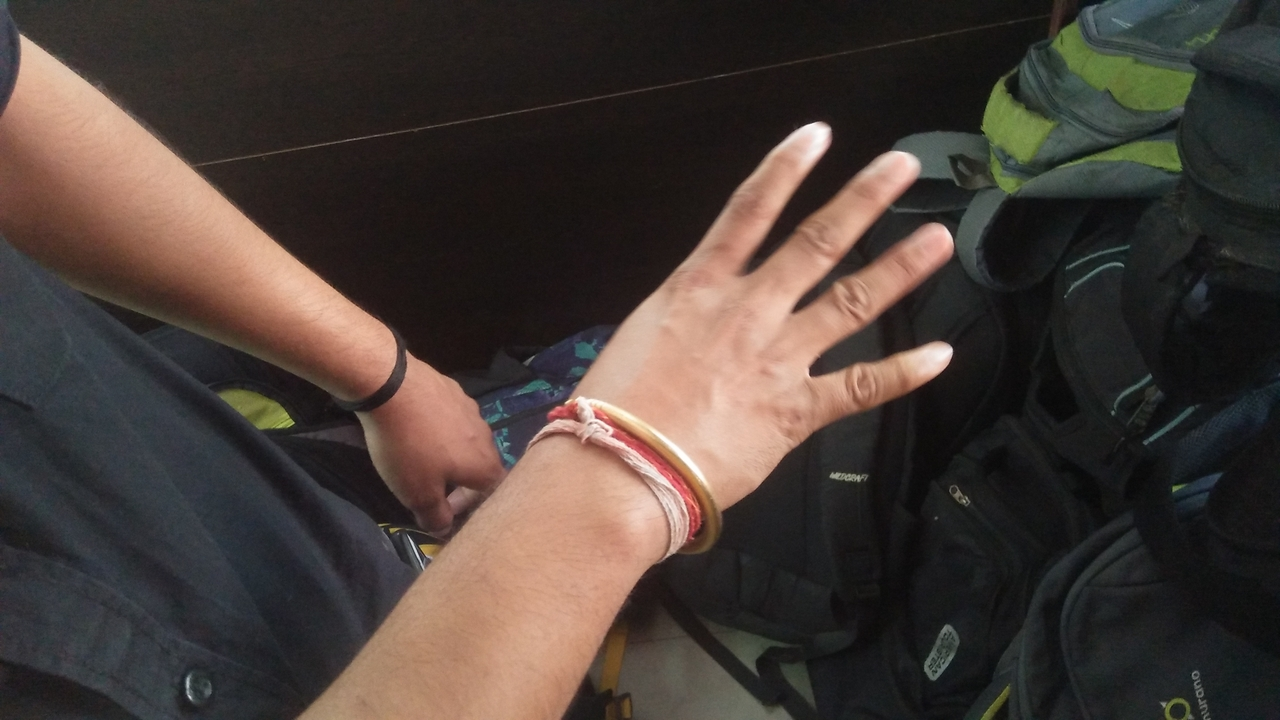fingertip: (856, 138, 930, 194), (776, 114, 844, 162), (908, 334, 964, 376), (910, 216, 956, 265)
